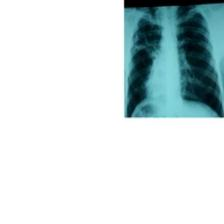tuberculosis: (123, 6, 224, 117)
